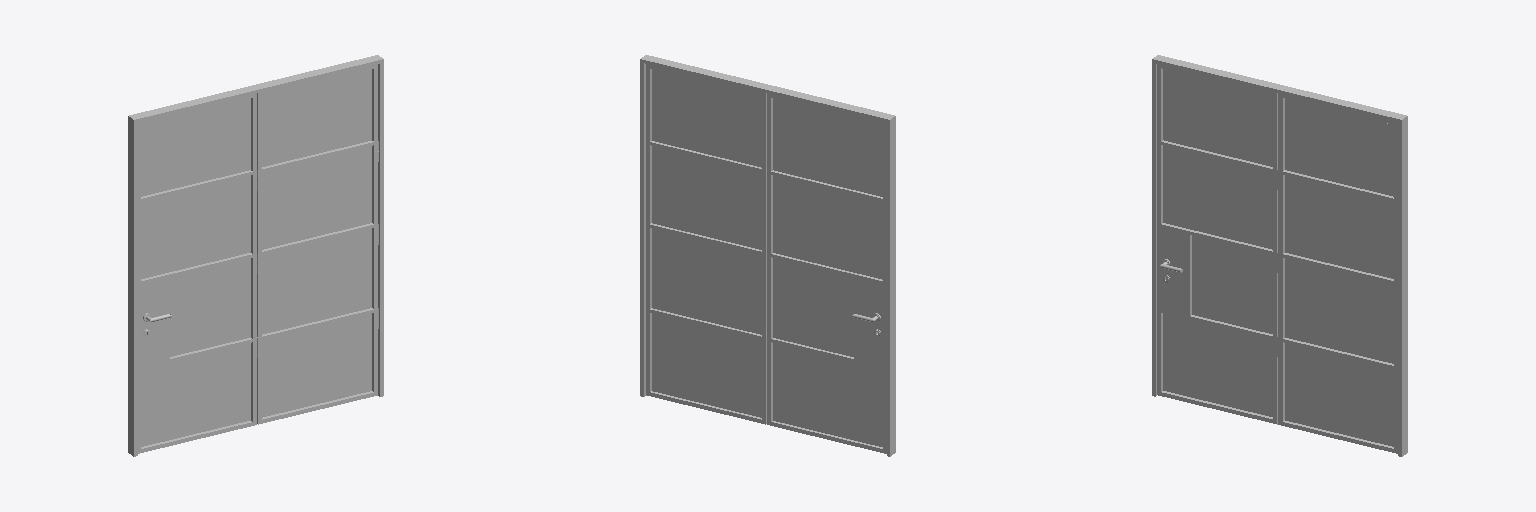
The model's file is Door Glass.obj.
3 renders of one model, left to right at view 1: azimuth 30°, elevation 25°; view 2: azimuth 150°, elevation 25°; view 3: azimuth 330°, elevation 25°, orthographic.
Size of the model in its own units: 1.86 by 2.4 by 0.1859.